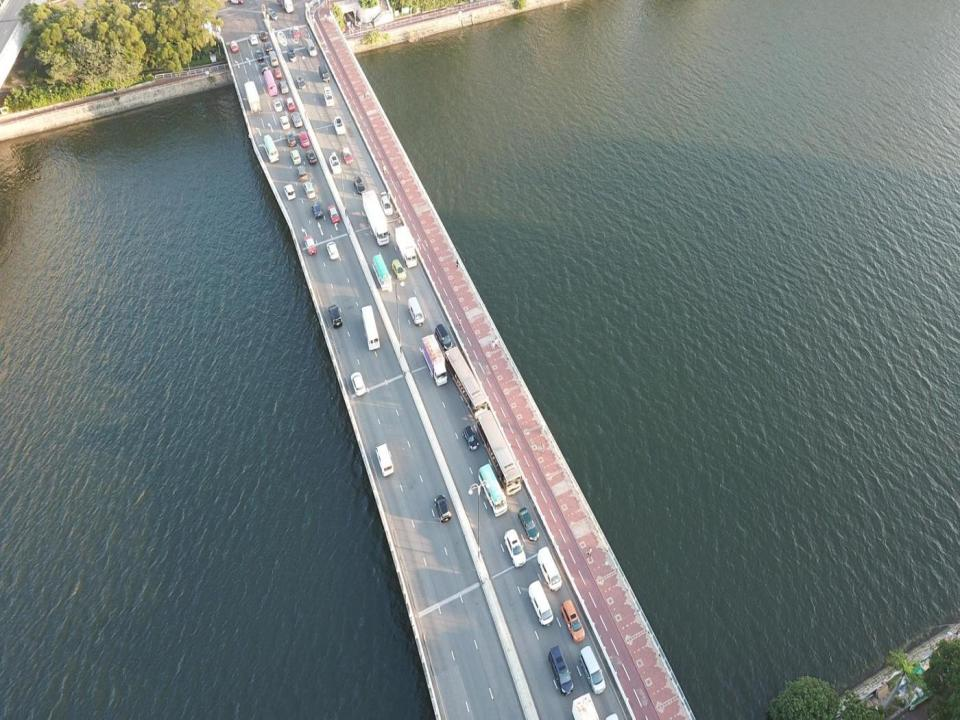bus: (476, 410, 522, 495), (445, 346, 488, 420), (479, 463, 508, 516), (360, 305, 380, 351), (371, 252, 392, 290), (263, 134, 279, 163), (263, 69, 278, 95)
car: (561, 598, 586, 644), (504, 528, 526, 568), (518, 506, 539, 541), (434, 494, 451, 523), (462, 424, 479, 450), (350, 372, 366, 397), (390, 258, 406, 280), (303, 235, 318, 255), (353, 176, 366, 195), (381, 194, 392, 216), (333, 117, 346, 135), (329, 156, 342, 174), (326, 241, 338, 260), (310, 201, 323, 218), (283, 183, 296, 200), (328, 205, 340, 223), (279, 115, 291, 132), (290, 111, 302, 128), (284, 131, 296, 147), (342, 147, 353, 164), (305, 150, 318, 164), (298, 131, 308, 147), (285, 97, 295, 113), (266, 8, 278, 21), (290, 150, 301, 164), (271, 98, 282, 112), (258, 63, 268, 74), (229, 40, 238, 52), (249, 34, 258, 45), (292, 26, 300, 38), (273, 68, 282, 78), (255, 50, 263, 61), (297, 76, 304, 88), (211, 14, 221, 22), (265, 43, 272, 54), (226, 0, 244, 4), (260, 31, 268, 40)
truck: (362, 189, 391, 246), (420, 334, 447, 386), (395, 226, 417, 268), (243, 80, 262, 112)
van: (548, 644, 574, 696), (580, 646, 606, 694), (528, 579, 553, 627), (537, 546, 562, 590), (375, 442, 394, 477), (408, 297, 425, 326), (436, 322, 452, 352), (328, 304, 342, 328), (276, 0, 294, 13), (323, 86, 334, 106), (303, 182, 316, 198), (318, 65, 330, 82), (306, 38, 317, 56), (296, 165, 307, 182), (269, 50, 279, 67), (278, 80, 289, 94), (287, 47, 296, 60)
